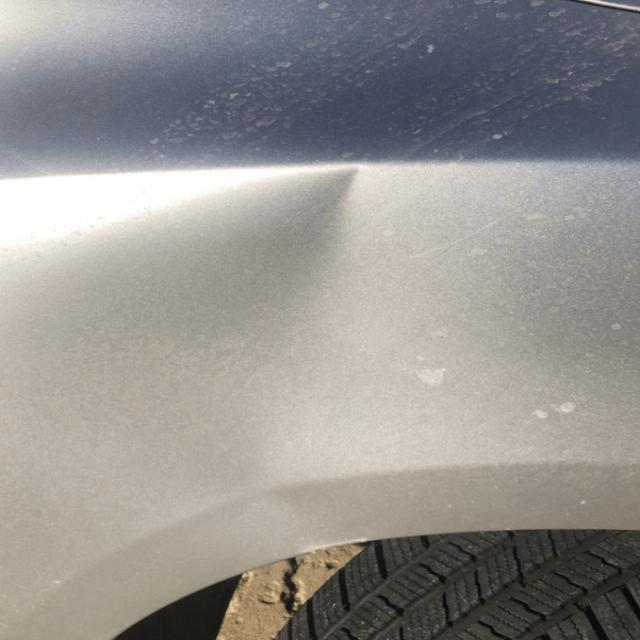dents: (156, 156, 490, 382)
